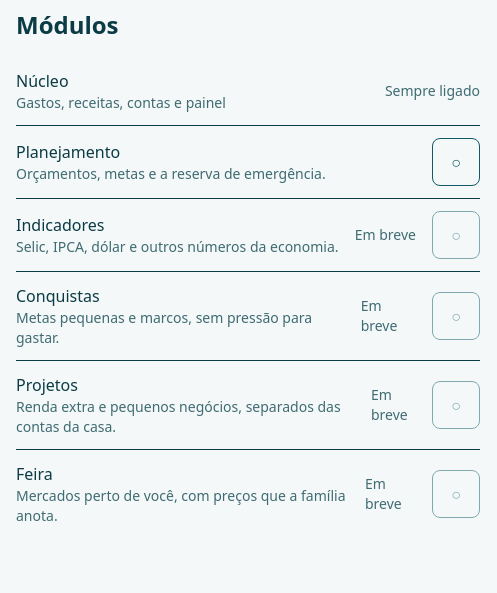
Test: ModulesPage › availableModuleToggles
Expected: the text "Em breve" is shown 4 times, [355, 225, 416, 245]; [361, 296, 397, 335]; [371, 385, 408, 424]; [365, 474, 402, 513]
Click the switch labelled "○" in the row of "Planejamento" at (456, 162), box [432, 138, 480, 186]
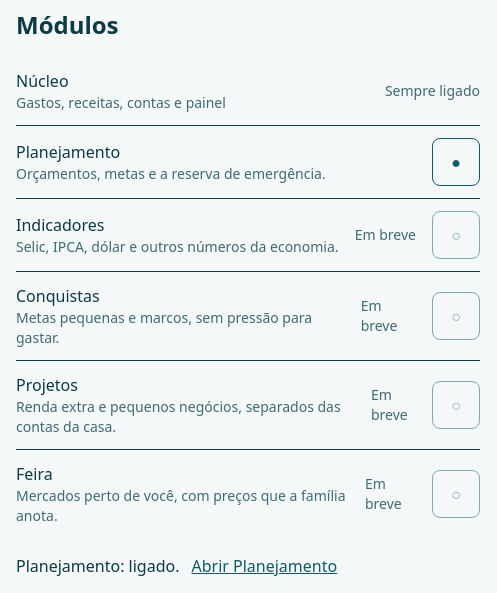
Expected: the switch named "Planejamento" is checked, [432, 138, 480, 186]
